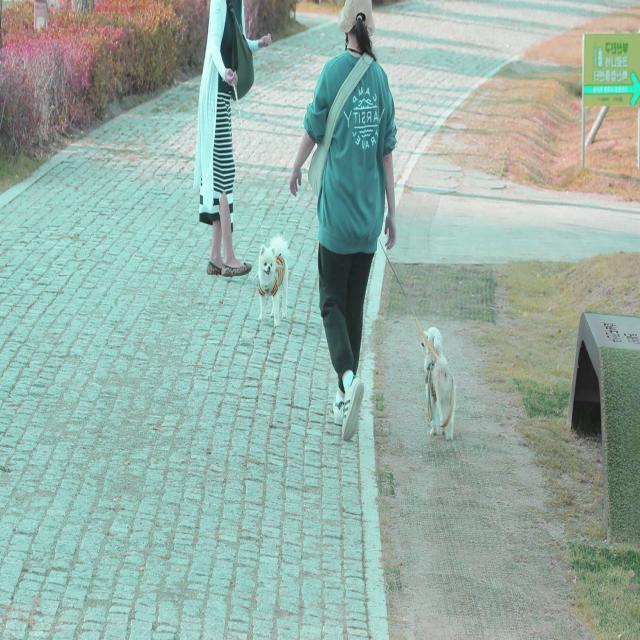Leashed_Dog: (345, 231, 456, 440), (216, 77, 289, 328)
